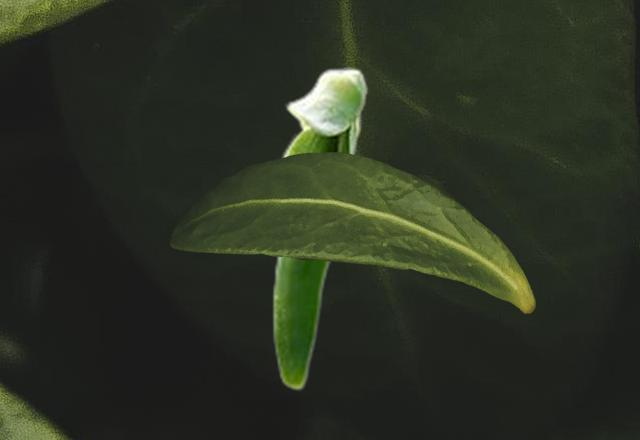pea: (271, 67, 368, 390)
